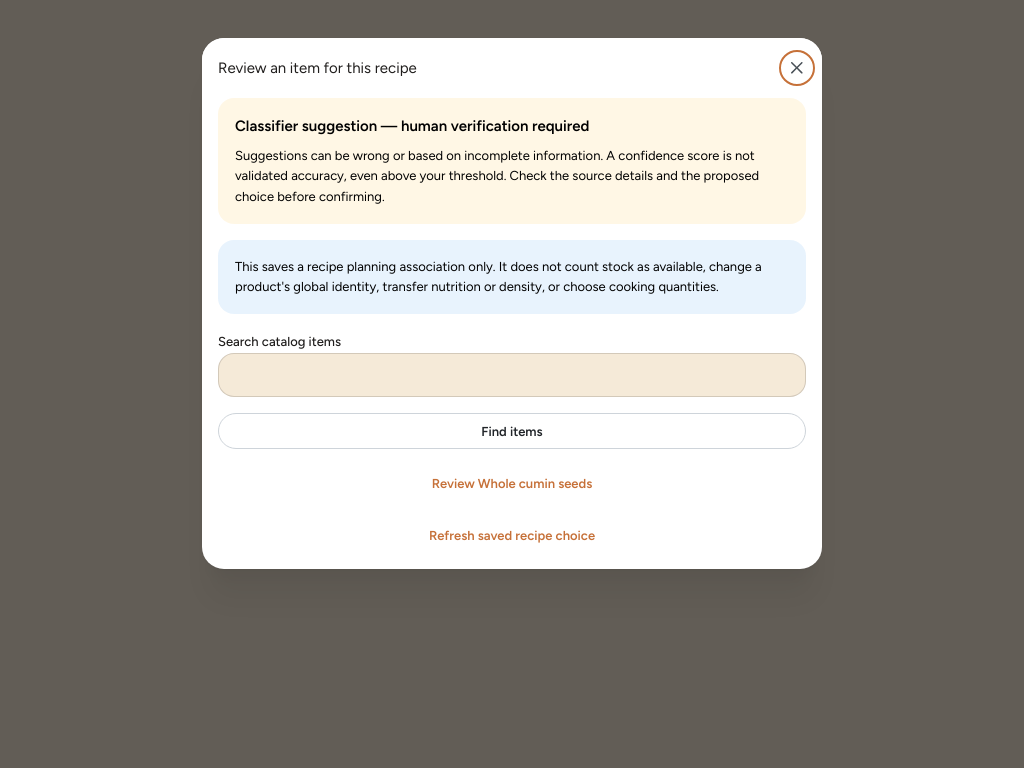
Test case: Recipe-scoped evidence review › keeps manual review available with classifier assistance disabled
The image size is (1024, 768).
What coordinates should you click on to do the following:
click the button "Review Whole cumin seeds"
I would click on:
 (512, 484)
Its box is [218, 466, 806, 502].
(page scrolled)
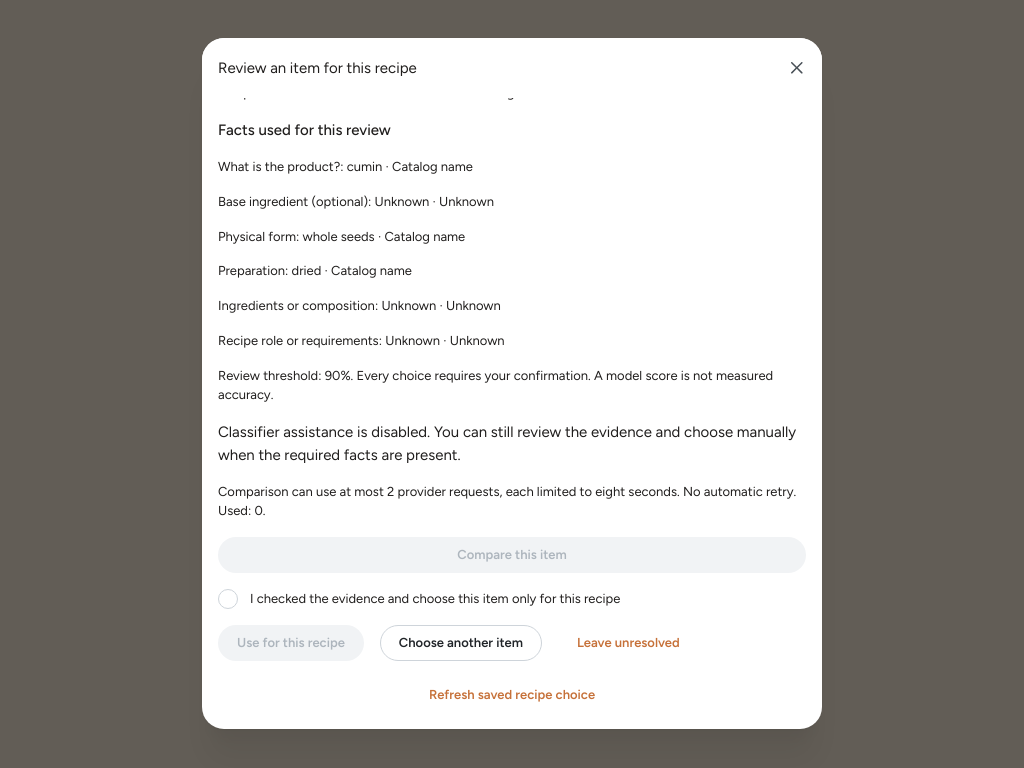
expect the text "Facts used for this review" is shown: met, box [218, 121, 391, 139]
expect the text "Classifier assistance is disabled" is shown: met, box [218, 423, 796, 464]
expect the button "Compare this item" is disabled: met, box [218, 537, 806, 573]
What coordinates should you click on to do the following:
click the checkbox labelled "I checked the evidence and choose this item only for this recipe"
I would click on:
 (228, 599)
Its box is [218, 589, 238, 609].
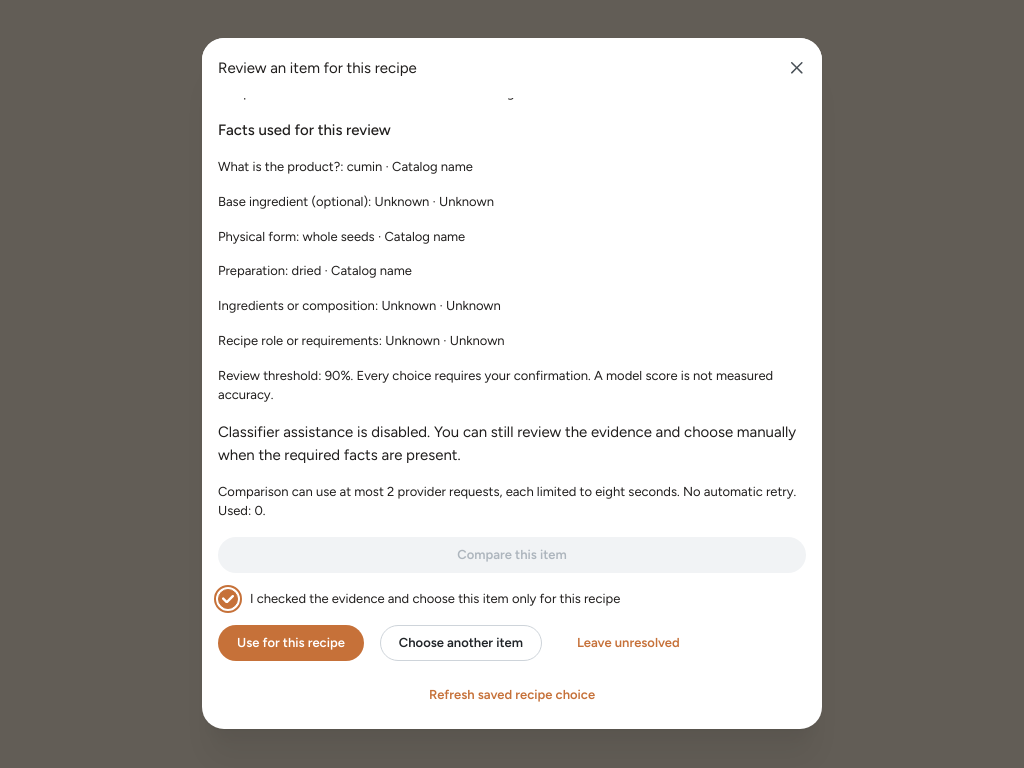
What coordinates should you click on to do the following:
click the button "Use for this recipe"
I would click on:
 (291, 643)
Its box is [218, 625, 364, 661].
(page scrolled)
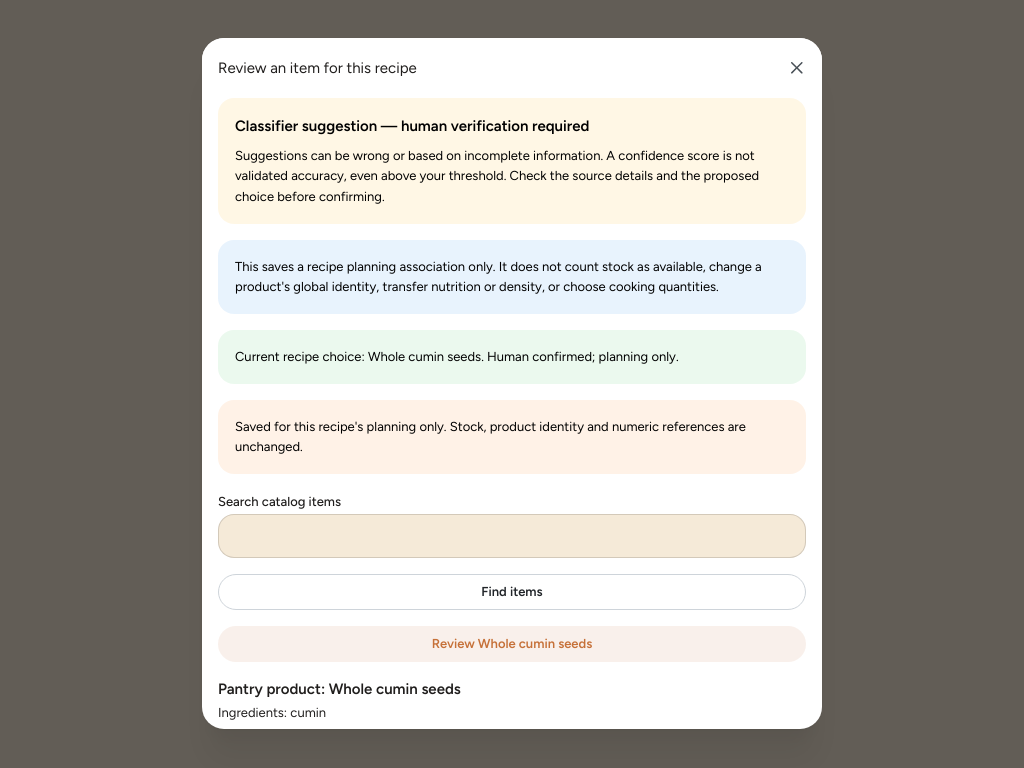
expect the text "Current recipe choice:" is shown: met, box [235, 349, 368, 364]
